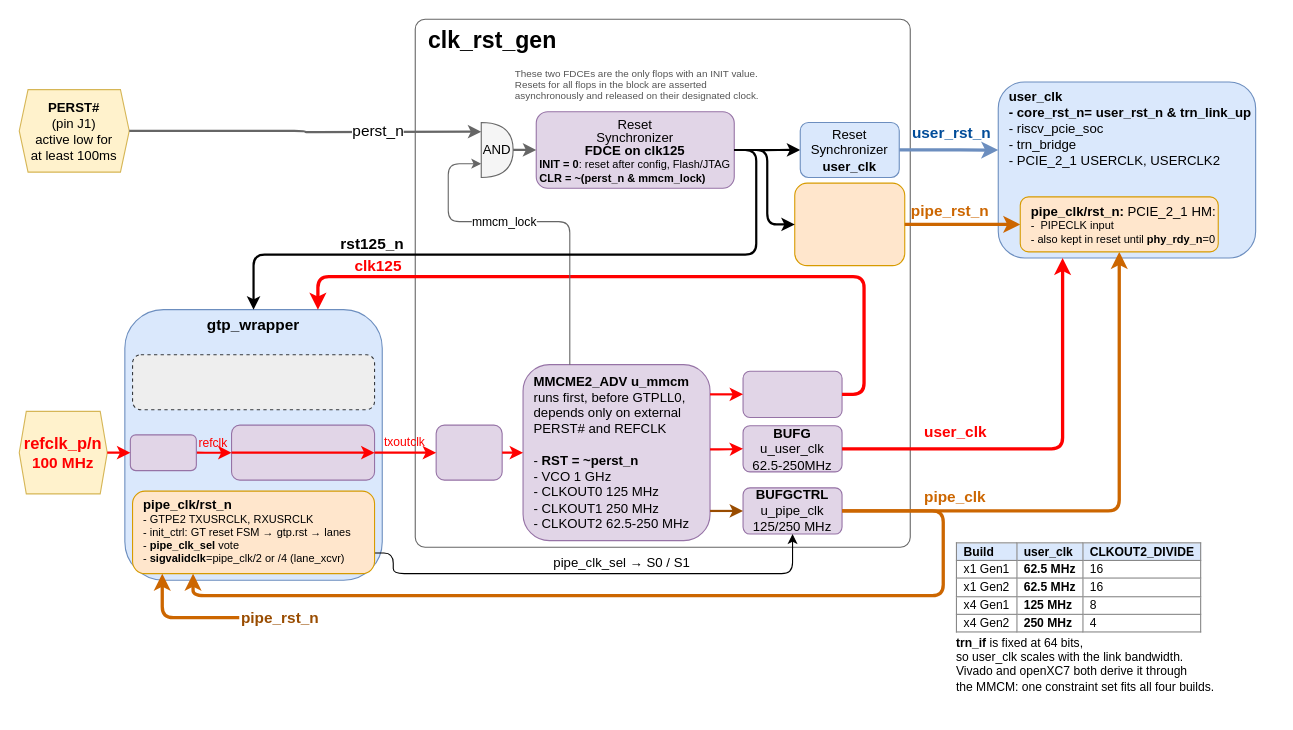
The diagram is 1293 pixels wide and 730 high, and some of its shapes have lost their labels. The shapes that lost their labels are listed below. From the top down, each one's box as (x1, y1, x2, y2) in pixels, then its label:
(794, 182, 905, 266): Reset Synchronizer pipe_clk Gen1: 125MHz Gen2: 250MHz
(131, 354, 375, 410): clk125/ rst125_n - GTPLL0 power-up sequence - chan_retune (GT DRP, DRPCLK)
(742, 370, 842, 417): BUFG u_clk125 125MHz
(129, 434, 196, 471): IBUFDS _GTE2
(230, 424, 375, 480): GTPE2_CHANNEL<0> TXOUTCLKSEL=3'b011, hence TXOUTCLK = refclk
(435, 424, 502, 480): BUFG u_txoutclk
